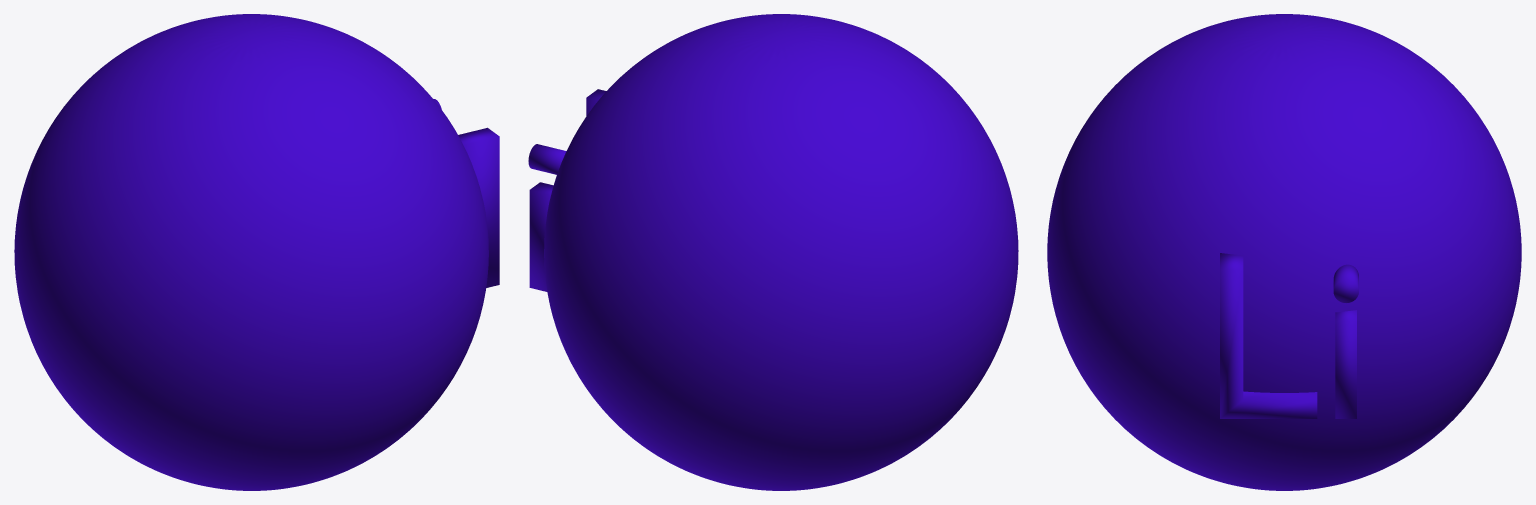
Rendered from Lithium.obj.
3 renders of one model, left to right at view 1: azimuth 30°, elevation 25°; view 2: azimuth 150°, elevation 25°; view 3: azimuth 270°, elevation 25°, orthographic.
Parts seen in each view (by area): view 1: Sphere, Text; view 2: Sphere, Text; view 3: Sphere, Text.
Boxes of the visible parts, x1=… form: Sphere: x1=14, y1=14, x2=488, y2=490; Text: x1=433, y1=99, x2=499, y2=287; Sphere: x1=544, y1=14, x2=1018, y2=490; Text: x1=528, y1=89, x2=606, y2=291; Sphere: x1=1047, y1=14, x2=1521, y2=490; Text: x1=1220, y1=253, x2=1358, y2=418.
Bounding box in the file's own units: 2.02 × 2 × 1.97.
